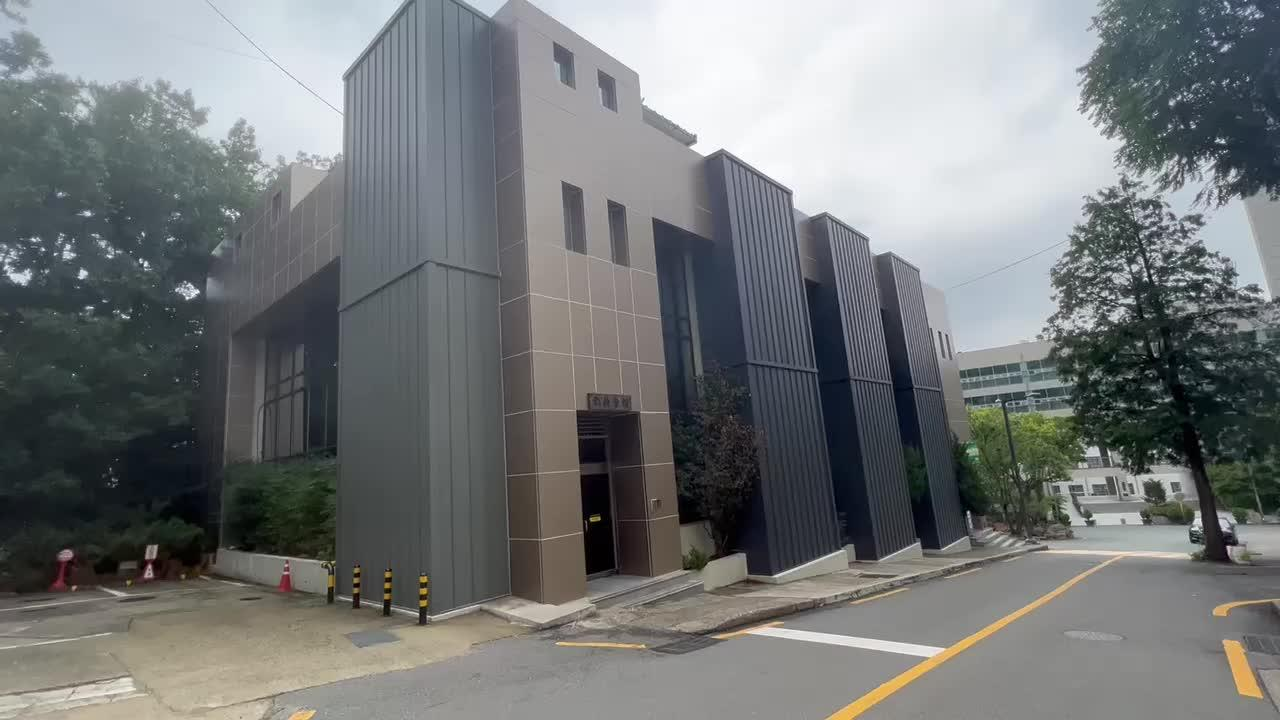building: (194, 28, 987, 568)
